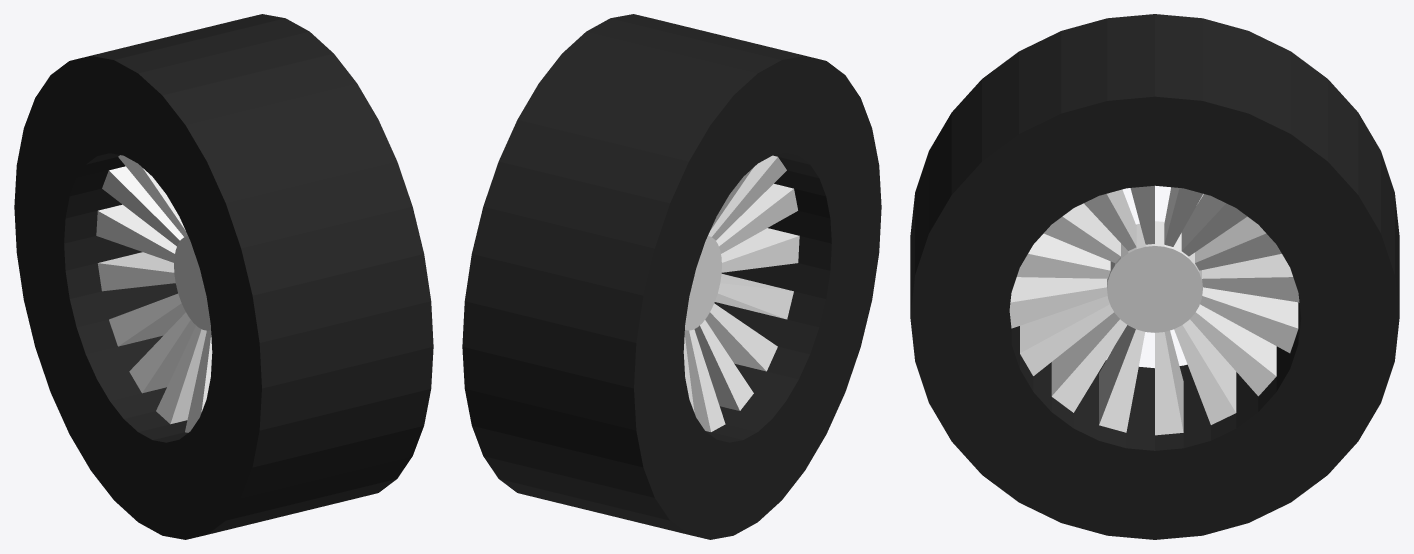
Rendered from tire.dae.
The picture shows the model from 3 angles, left to right: view 1: azimuth 30°, elevation 25°; view 2: azimuth 150°, elevation 25°; view 3: azimuth 270°, elevation 25°; orthographic projection.
Parts seen in each view (by area): view 1: Cylinder; view 2: Cylinder; view 3: Cylinder.
Boxes of the visible parts, left/top/right/bottom form: Cylinder: left=14, top=14, right=433, bottom=539; Cylinder: left=462, top=14, right=881, bottom=539; Cylinder: left=910, top=14, right=1399, bottom=539.
Bounding box in the file's own units: 0.8 × 2 × 2.
1 material, 1 textured.
